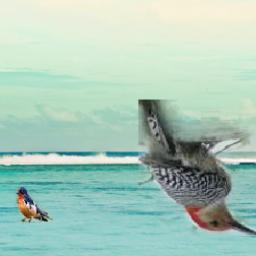Swallow: (15, 186, 54, 222)
Woodpecker: (138, 100, 256, 236)
